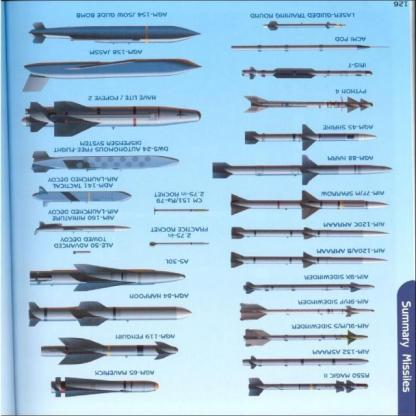MIL_TBM: (207, 152, 396, 191), (227, 123, 389, 158), (23, 302, 194, 331), (222, 35, 398, 63), (240, 94, 383, 122), (242, 376, 376, 405), (215, 252, 397, 271), (232, 226, 396, 245), (231, 280, 374, 300), (50, 376, 161, 400), (234, 330, 380, 347), (263, 14, 353, 36)
